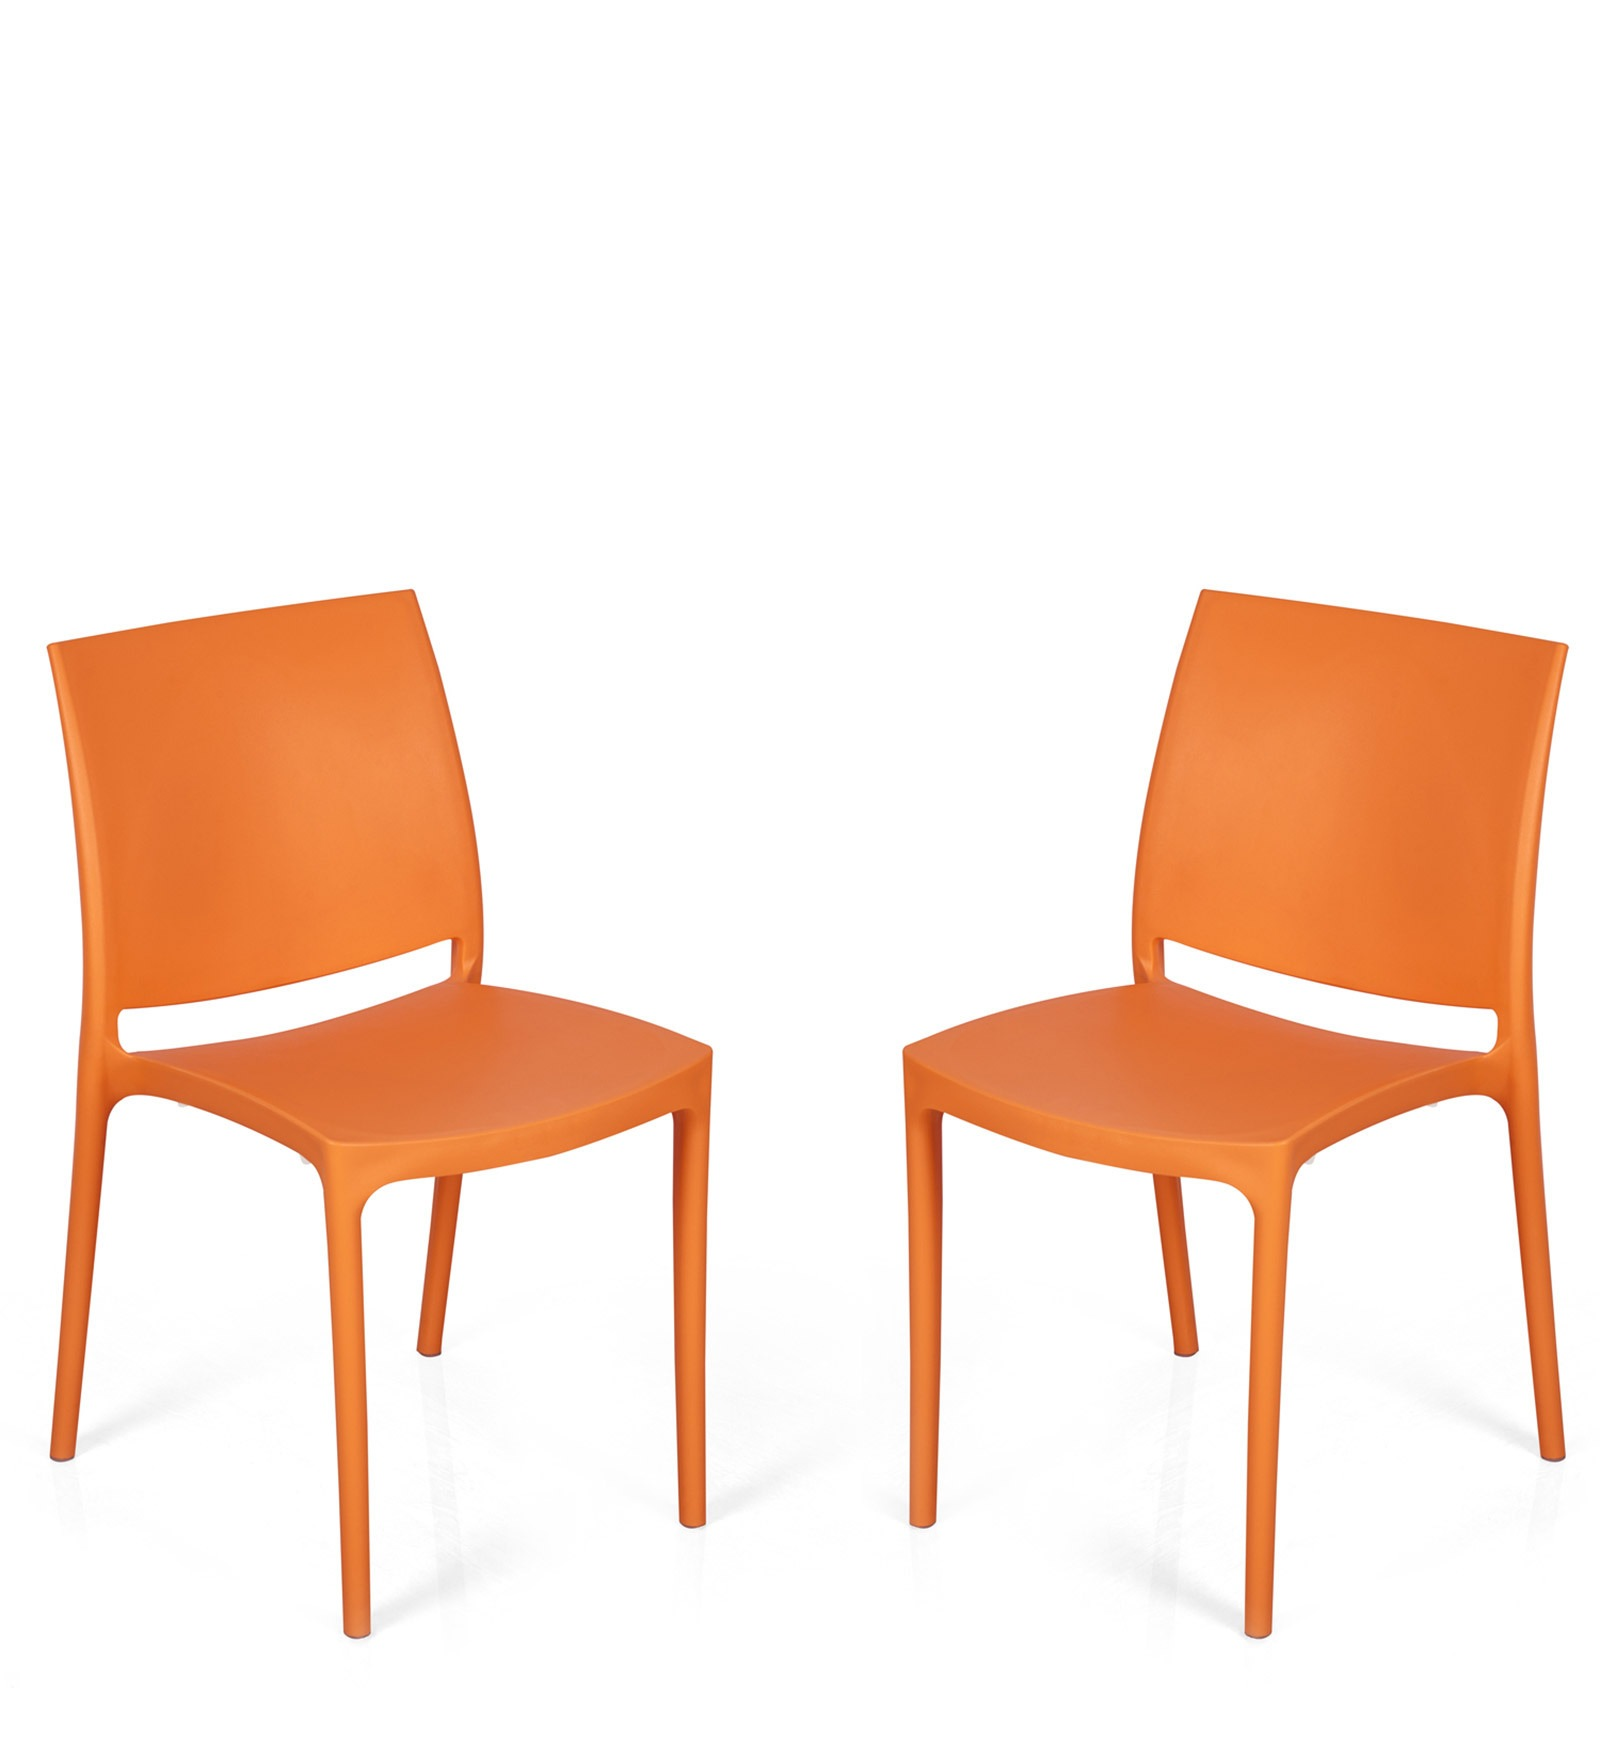Novella Series - 8 Chair (Set of 2) in Orange Colour by Nilkamal: (875, 578, 1579, 1643), (48, 586, 734, 1637)
